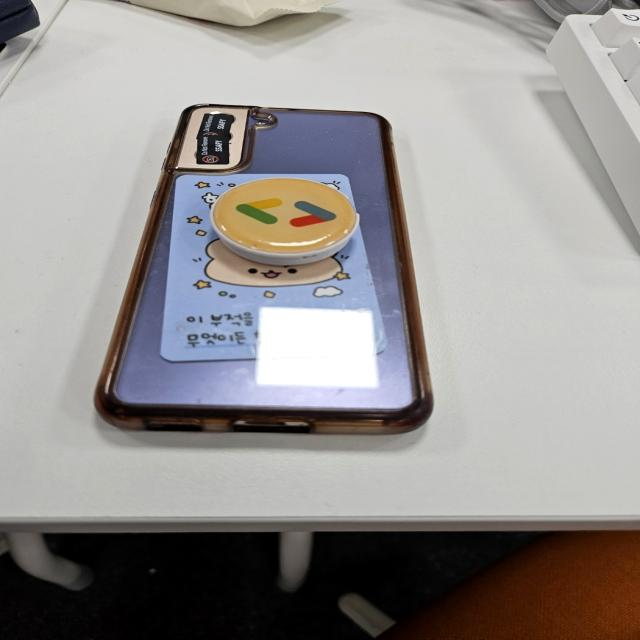phone: (103, 102, 436, 440)
sticker: (199, 113, 232, 139), (196, 136, 226, 163)
